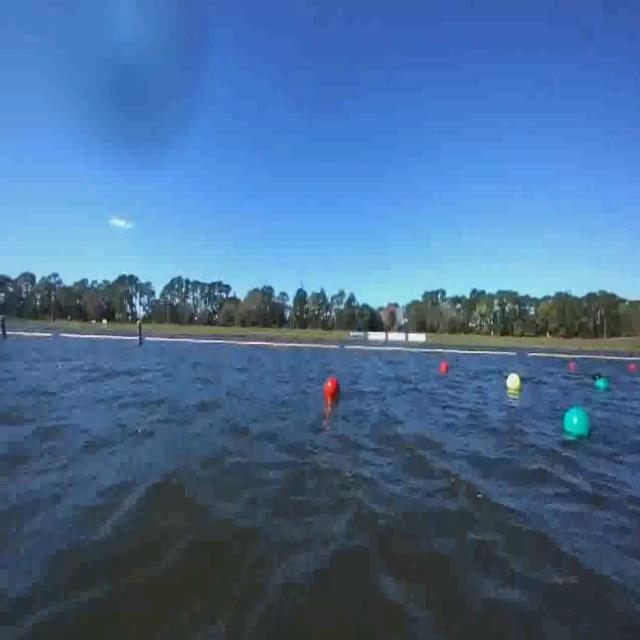green-buoy: (562, 407, 590, 438), (596, 378, 608, 392)
red-buoy: (328, 376, 343, 398), (441, 360, 451, 374), (626, 362, 640, 372), (569, 361, 577, 371)
yellow-buoy: (507, 373, 522, 392)
